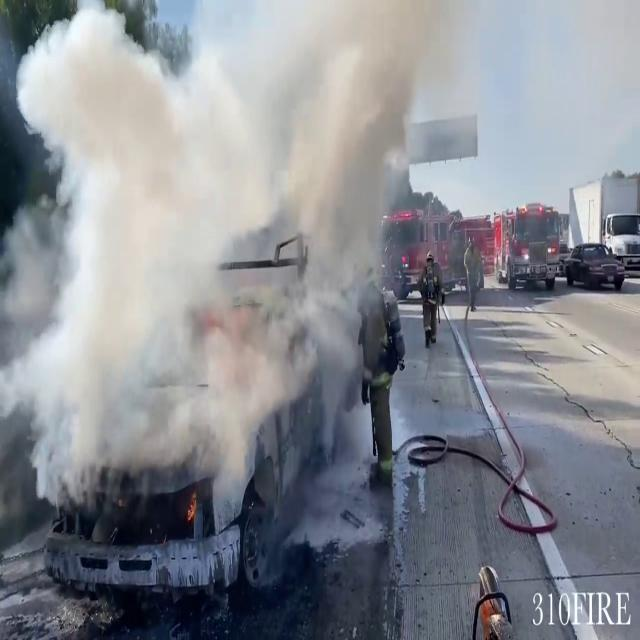Smoke: (0, 0, 450, 540)
